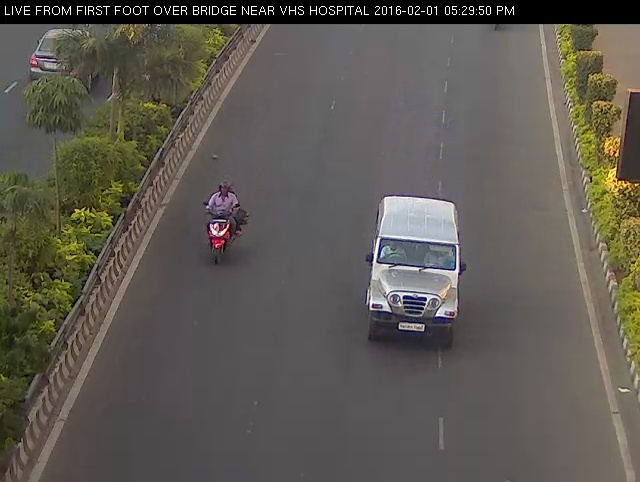Car: (354, 187, 478, 360)
Person: (197, 164, 252, 274)
